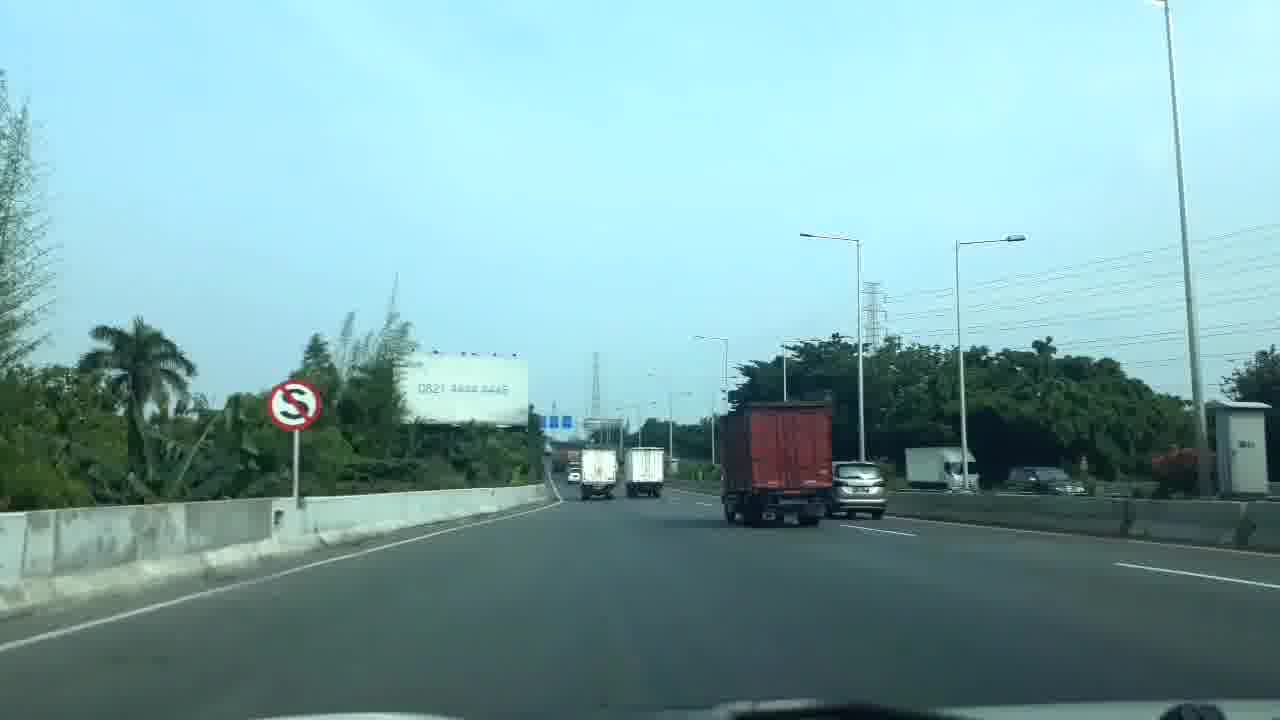plate_positive: (852, 486, 870, 493)
